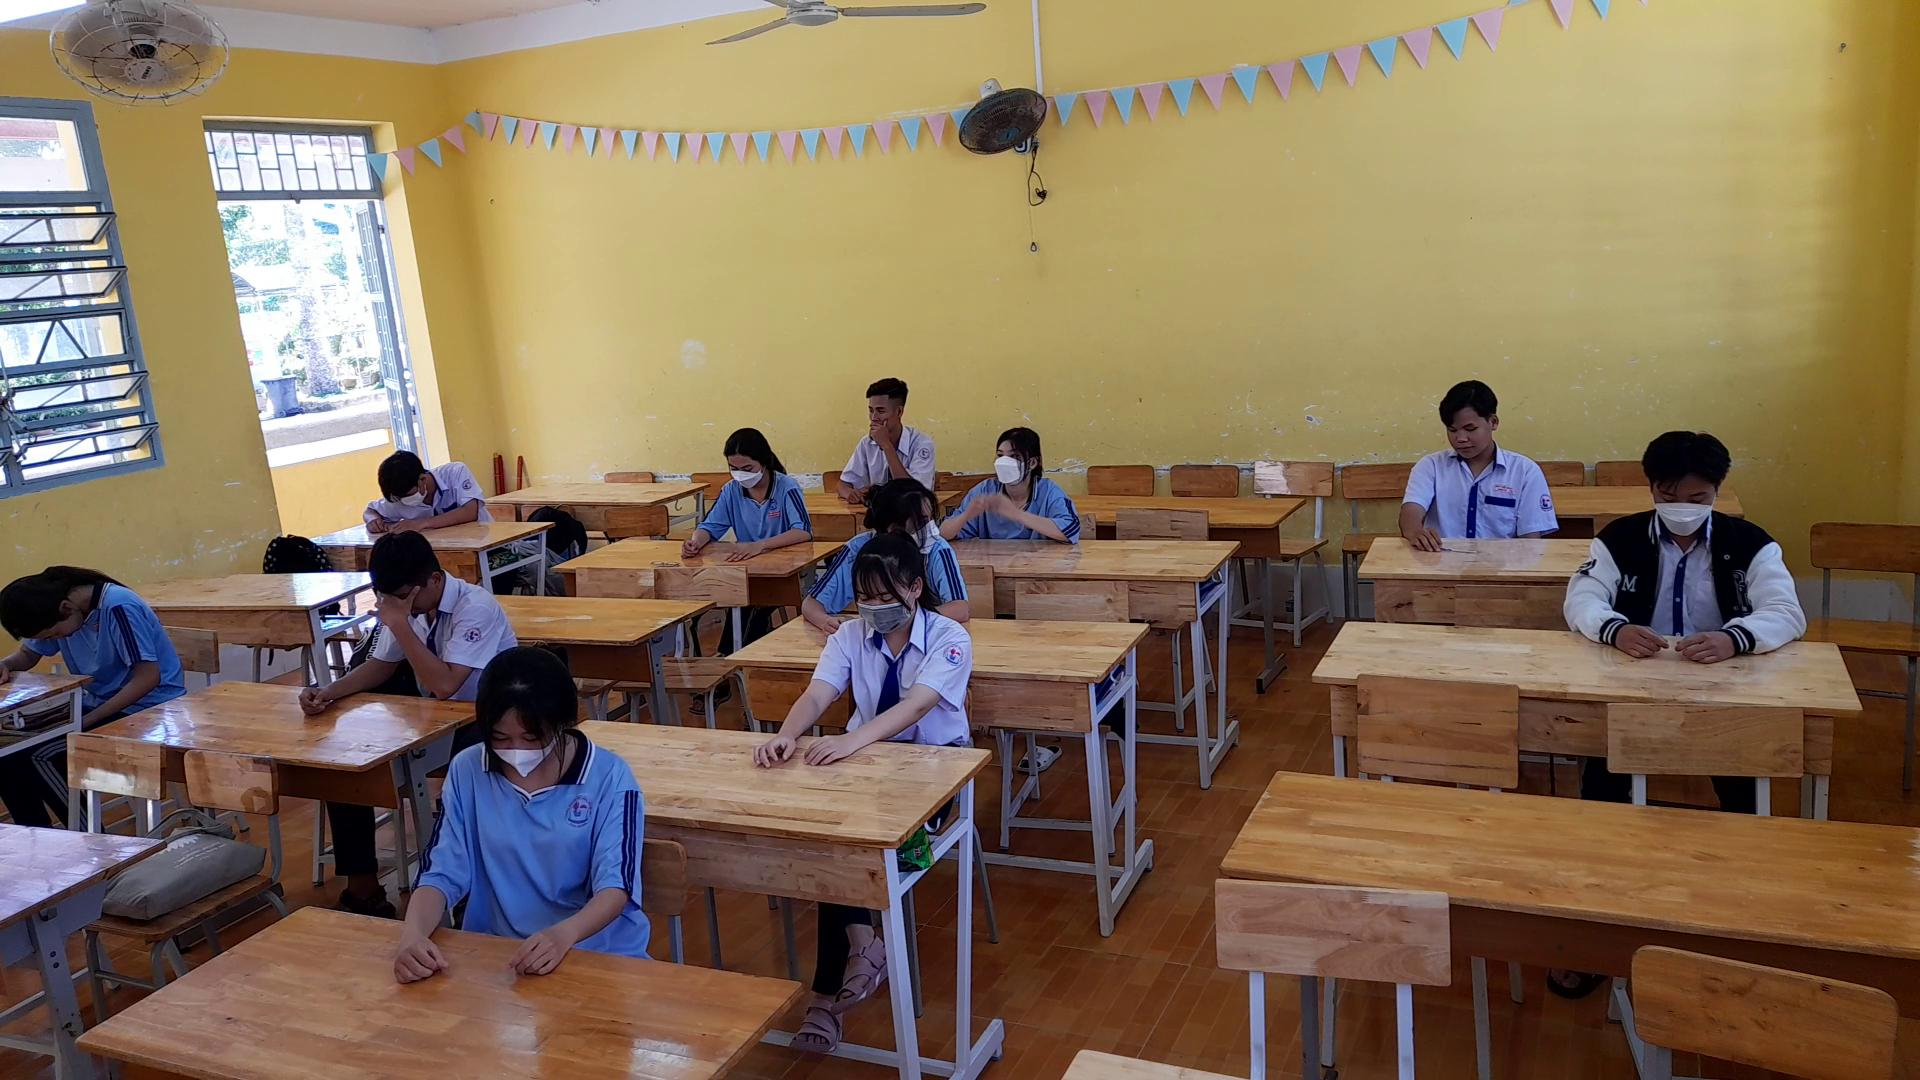Bend Over The Desk: (450, 641, 578, 774), (1425, 367, 1519, 469), (0, 564, 96, 655), (352, 423, 448, 514)
Hand Under Table: (91, 603, 164, 732), (1505, 454, 1560, 546)
Normal: (1551, 419, 1813, 671), (750, 524, 975, 770), (670, 418, 818, 564)
Wave: (364, 591, 473, 696), (993, 488, 1085, 549), (935, 483, 997, 535), (868, 421, 905, 480)
